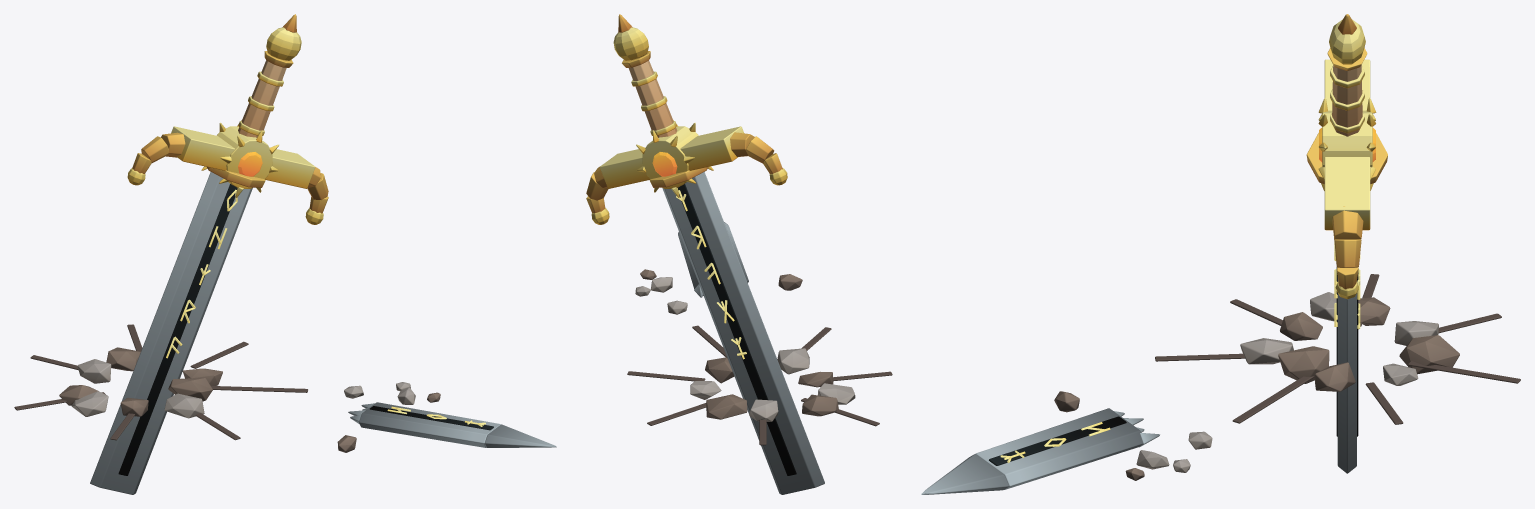
The model's file is shattered_divine_blade.glb.
3 renders of one model, left to right at view 1: azimuth 30°, elevation 25°; view 2: azimuth 150°, elevation 25°; view 3: azimuth 270°, elevation 25°, orthographic. The views are drawn at different scales.
Visible parts, largest first — view 1: shattered_divine_blade; view 2: shattered_divine_blade; view 3: shattered_divine_blade.
Boxes of the visible parts, left/top/right/bottom form: shattered_divine_blade: left=14, top=14, right=556, bottom=494; shattered_divine_blade: left=586, top=14, right=892, bottom=494; shattered_divine_blade: left=921, top=14, right=1520, bottom=494.
Bounding box in the file's own units: 9.33 × 10.8 × 10.5.
3 materials, 3 textured.
